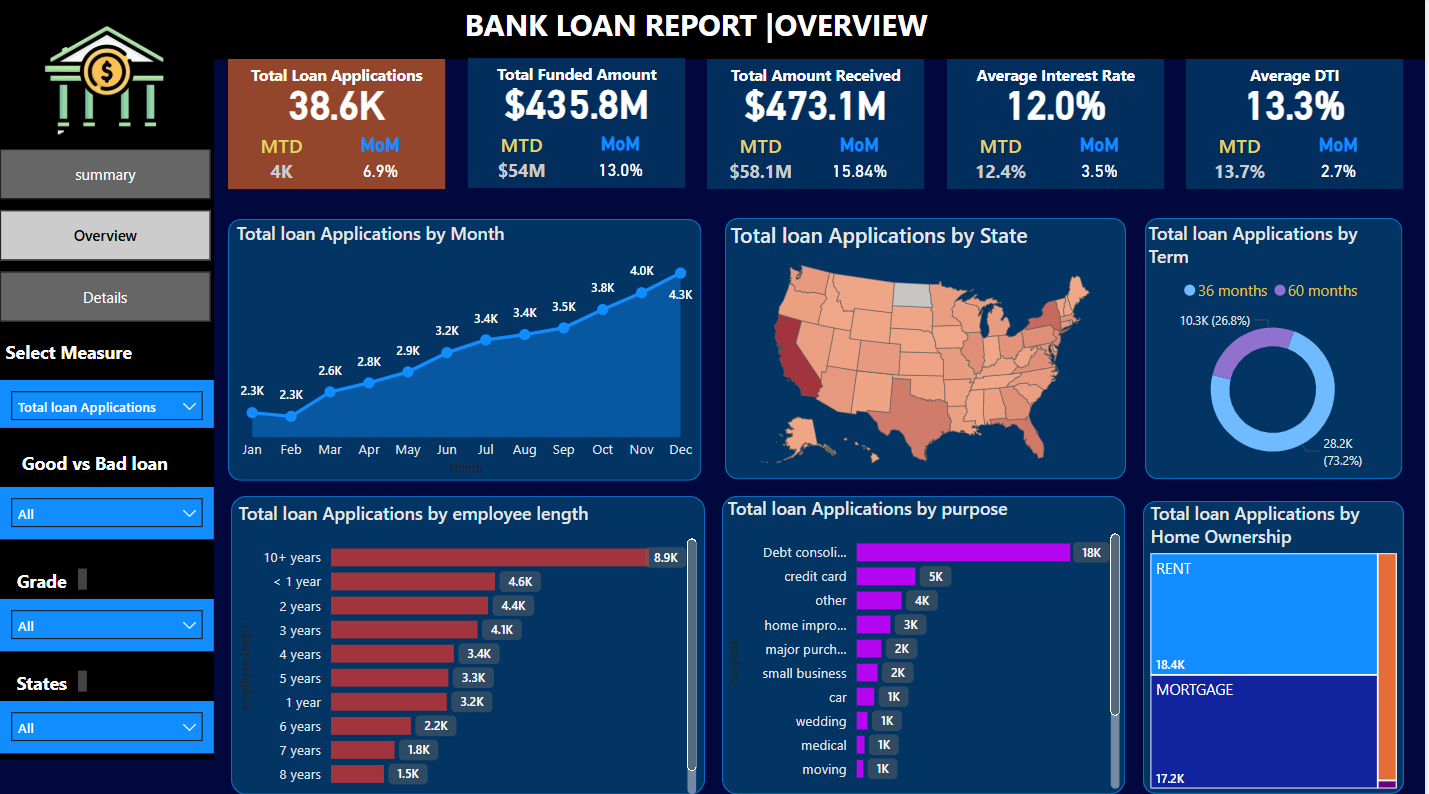

This screenshot's page, from the dashboard's own definition file:
{"tool":"powerbi","page":{"name":"Overview","canvas":[1280,720],"ordinal":1},"visuals":[{"type":"shape","box":[0,0,1280,55],"z":0},{"type":"slicer","fields":{"Values":["Select Measure.Select Measure"]},"box":[0,342.7,192.1,42.6],"z":0,"group":"g14"},{"type":"slicer","fields":{"Values":["Bank_loan_data.Good vs Bad loan"]},"box":[0,439.3,192.1,47.2],"z":0,"group":"g13"},{"type":"slicer","fields":{"Values":["Bank_loan_data.grade"]},"box":[0,539.4,192.1,47.2],"z":0,"group":"g12"},{"type":"slicer","fields":{"Values":["Bank_loan_data.address_state"]},"box":[0,631.4,192.1,47.2],"z":0,"group":"g11"},{"type":"textbox","box":[412,0,458,55],"z":1000},{"type":"textbox","box":[0,301.3,170.2,41.4],"z":1000,"group":"g14"},{"type":"textbox","box":[0,401.2,170.2,35.7],"z":1000,"group":"g13"},{"type":"textbox","box":[0,507.2,82.8,29.9],"z":1000,"group":"g12"},{"type":"textbox","box":[0,599.2,82.8,29.9],"z":1000,"group":"g11"},{"type":"group","id":"g1","title":"Group 1","box":[205,55,195,117],"z":2000},{"type":"shape","box":[420,54,194.8,116.7],"z":3000,"group":"g3"},{"type":"shape","box":[205,55,194.8,116.7],"z":3000,"group":"g4"},{"type":"shape","box":[635,55,194.8,116.7],"z":3000,"group":"g5"},{"type":"shape","box":[850,55,194.8,116.7],"z":3000,"group":"g6"},{"type":"shape","box":[1065,55,194.8,116.7],"z":3000,"group":"g7"},{"type":"shape","box":[205,198,425,235],"z":3000},{"type":"group","id":"g2","title":"Group 1","box":[420,54,195,117],"z":4000},{"type":"card","fields":{"Values":["Measures (2).Total Funded Amount"]},"box":[420,65.6,194.8,54],"z":4000,"group":"g3"},{"type":"card","fields":{"Values":["Measures (2).Total loan Applications"]},"box":[205,66.6,194.8,54],"z":4000,"group":"g4"},{"type":"card","fields":{"Values":["Measures (2).Total Amount Received"]},"box":[635,66.6,194.8,54],"z":4000,"group":"g5"},{"type":"card","fields":{"Values":["Measures (2).Average Interest Rate"]},"box":[850,66.6,194.8,54],"z":4000,"group":"g6"},{"type":"card","fields":{"Values":["Measures (2).Average DTI"]},"box":[1065,66.6,194.8,54],"z":4000,"group":"g7"},{"type":"group","id":"g3","title":"Group 3","box":[420,54,195,117],"z":4001,"group":"g2"},{"type":"group","id":"g4","title":"Group 2","box":[205,55,195,117],"z":4001,"group":"g1"},{"type":"group","id":"g5","title":"Group 3","box":[635,55,195,117],"z":4001,"group":"g8"},{"type":"group","id":"g6","title":"Group 3","box":[850,55,195,117],"z":4001,"group":"g9"},{"type":"group","id":"g7","title":"Group 3","box":[1065,55,195,117],"z":4001,"group":"g10"},{"type":"textbox","box":[420,54,195,30],"z":5000,"group":"g3"},{"type":"textbox","box":[205,55,195,30],"z":5000,"group":"g4"},{"type":"group","id":"g8","title":"Group 1","box":[635,55,195,117],"z":5000},{"type":"textbox","box":[635,55,195,30],"z":5000,"group":"g5"},{"type":"textbox","box":[850,55,195,30],"z":5000,"group":"g6"},{"type":"textbox","box":[1065,55,195,30],"z":5000,"group":"g7"},{"type":"shape","box":[0,0,192.1,684.3],"z":6000},{"type":"card","title":"MTD","fields":{"Values":["Measures (2).MTD Funded Amount"]},"box":[433.5,119.6,69.4,51.1],"z":6000,"group":"g3"},{"type":"card","title":"MTD","fields":{"Values":["Measures (2).MTD Loan Applications"]},"box":[218.5,120.6,69.4,51.1],"z":6000,"group":"g4"},{"type":"card","title":"MTD","fields":{"Values":["Measures (2).MTD Total Amount Received"]},"box":[648.5,120.6,69.4,51.1],"z":6000,"group":"g5"},{"type":"card","title":"MTD","fields":{"Values":["Measures (2).MTD Average interest Rate"]},"box":[863.5,120.6,69.4,51.1],"z":6000,"group":"g6"},{"type":"card","title":"MTD","fields":{"Values":["Measures (2).MTD Average DTI"]},"box":[1078.5,120.6,69.4,51.1],"z":6000,"group":"g7"},{"type":"group","id":"g9","title":"Group 1","box":[850,55,195,117],"z":7000},{"type":"card","title":"MoM","fields":{"Values":["Measures (2).MoM Total Funded Amount"]},"box":[518,120,78,51],"z":7000,"group":"g3"},{"type":"card","title":"MoM","fields":{"Values":["Measures (2).MoM Loan Application"]},"box":[303,121,78,51],"z":7000,"group":"g4"},{"type":"card","title":"MoM","fields":{"Values":["Measures (2).MoM Amount Received"]},"box":[733,121,78,51],"z":7000,"group":"g5"},{"type":"card","title":"MoM","fields":{"Values":["Measures (2).MoM Average Interest Rate"]},"box":[948,121,78,51],"z":7000,"group":"g6"},{"type":"card","title":"MoM","fields":{"Values":["Measures (2).MoM Average DTI"]},"box":[1163,121,78,51],"z":7000,"group":"g7"},{"type":"group","id":"g10","title":"Group 1","box":[1065,55,195,117],"z":8000},{"type":"group","id":"g11","title":"Group 4","box":[0,599.2,192.1,79.4],"z":9000},{"type":"group","id":"g12","title":"Group 5","box":[0,507.2,192.1,79.4],"z":10000},{"type":"group","id":"g13","title":"Group 5","box":[0,401.2,192.1,85.2],"z":11000},{"type":"group","id":"g14","title":"Group 6","box":[0,301.3,192.1,84],"z":12000},{"type":"shape","box":[650.9,197.8,360,234.6],"z":13000},{"type":"shapeMap","fields":{"Value":["Measures (2).Total loan Applications"],"Category":["Bank_loan_data.address_state"]},"box":[650.9,200.1,360,232.3],"z":14000},{"type":"shape","box":[1028.1,197.8,231.2,234.6],"z":15000},{"type":"donutChart","fields":{"Y":["Measures (2).Total loan Applications"],"Category":["Bank_loan_data.term"]},"box":[1025.8,200.1,233.5,232.3],"z":16000},{"type":"shape","box":[207,447.4,425.5,268],"z":17000},{"type":"barChart","fields":{"Y":["Measures (2).Total loan Applications"],"Category":["Bank_loan_data.emp_length"]},"box":[209.3,452,420.9,268],"z":18000},{"type":"shape","box":[648.6,447.4,362.3,268],"z":19000},{"type":"barChart","fields":{"Y":["Measures (2).Total loan Applications"],"Category":["Bank_loan_data.purpose"]},"box":[648.6,447.4,362.3,268],"z":20000},{"type":"areaChart","fields":{"Y":["Measures (2).Total loan Applications"],"Category":["Date Table.Month"]},"box":[207,200.1,423.2,232.3],"z":21000},{"type":"shape","box":[1025.8,452,234.6,263.4],"z":22000},{"type":"treemap","fields":{"Values":["Measures (2).Total loan Applications"],"Group":["Bank_loan_data.home_ownership"]},"box":[1028.1,452,231.2,263.4],"z":23000},{"type":"pageNavigator","box":[0,135.7,189.8,157.6],"z":23001},{"type":"image","box":[0,17.3,192.1,127.7],"z":23002}]}

Visuals, with their boxes on the page's 1280x720 design canvas (x1, y1, x2, y2). These are canvas units, not pixel positions in the 1429x794 screenshot, which may show the page scaled, cropped or inside an application window:
shape: region(0, 0, 1280, 55)
slicer - Select Measure.Select Measure: region(0, 343, 192, 385)
slicer - Bank_loan_data.Good vs Bad loan: region(0, 439, 192, 486)
slicer - Bank_loan_data.grade: region(0, 539, 192, 587)
slicer - Bank_loan_data.address_state: region(0, 631, 192, 679)
textbox: region(412, 0, 870, 55)
textbox: region(0, 301, 170, 343)
textbox: region(0, 401, 170, 437)
textbox: region(0, 507, 83, 537)
textbox: region(0, 599, 83, 629)
"Group 1" group: region(205, 55, 400, 172)
shape: region(420, 54, 615, 171)
shape: region(205, 55, 400, 172)
shape: region(635, 55, 830, 172)
shape: region(850, 55, 1045, 172)
shape: region(1065, 55, 1260, 172)
shape: region(205, 198, 630, 433)
"Group 1" group: region(420, 54, 615, 171)
card - Measures (2).Total Funded Amount: region(420, 66, 615, 120)
card - Measures (2).Total loan Applications: region(205, 67, 400, 121)
card - Measures (2).Total Amount Received: region(635, 67, 830, 121)
card - Measures (2).Average Interest Rate: region(850, 67, 1045, 121)
card - Measures (2).Average DTI: region(1065, 67, 1260, 121)
"Group 3" group: region(420, 54, 615, 171)
"Group 2" group: region(205, 55, 400, 172)
"Group 3" group: region(635, 55, 830, 172)
"Group 3" group: region(850, 55, 1045, 172)
"Group 3" group: region(1065, 55, 1260, 172)
textbox: region(420, 54, 615, 84)
textbox: region(205, 55, 400, 85)
"Group 1" group: region(635, 55, 830, 172)
textbox: region(635, 55, 830, 85)
textbox: region(850, 55, 1045, 85)
textbox: region(1065, 55, 1260, 85)
shape: region(0, 0, 192, 684)
"MTD" card: region(434, 120, 503, 171)
"MTD" card: region(218, 121, 288, 172)
"MTD" card: region(648, 121, 718, 172)
"MTD" card: region(864, 121, 933, 172)
"MTD" card: region(1078, 121, 1148, 172)
"Group 1" group: region(850, 55, 1045, 172)
"MoM" card: region(518, 120, 596, 171)
"MoM" card: region(303, 121, 381, 172)
"MoM" card: region(733, 121, 811, 172)
"MoM" card: region(948, 121, 1026, 172)
"MoM" card: region(1163, 121, 1241, 172)
"Group 1" group: region(1065, 55, 1260, 172)
"Group 4" group: region(0, 599, 192, 679)
"Group 5" group: region(0, 507, 192, 587)
"Group 5" group: region(0, 401, 192, 486)
"Group 6" group: region(0, 301, 192, 385)
shape: region(651, 198, 1011, 432)
shapeMap - Measures (2).Total loan Applications x Bank_loan_data.address_state: region(651, 200, 1011, 432)
shape: region(1028, 198, 1259, 432)
donutChart - Measures (2).Total loan Applications x Bank_loan_data.term: region(1026, 200, 1259, 432)
shape: region(207, 447, 632, 715)
barChart - Measures (2).Total loan Applications x Bank_loan_data.emp_length: region(209, 452, 630, 720)
shape: region(649, 447, 1011, 715)
barChart - Measures (2).Total loan Applications x Bank_loan_data.purpose: region(649, 447, 1011, 715)
areaChart - Measures (2).Total loan Applications x Date Table.Month: region(207, 200, 630, 432)
shape: region(1026, 452, 1260, 715)
treemap - Measures (2).Total loan Applications x Bank_loan_data.home_ownership: region(1028, 452, 1259, 715)
pageNavigator: region(0, 136, 190, 293)
image: region(0, 17, 192, 145)
